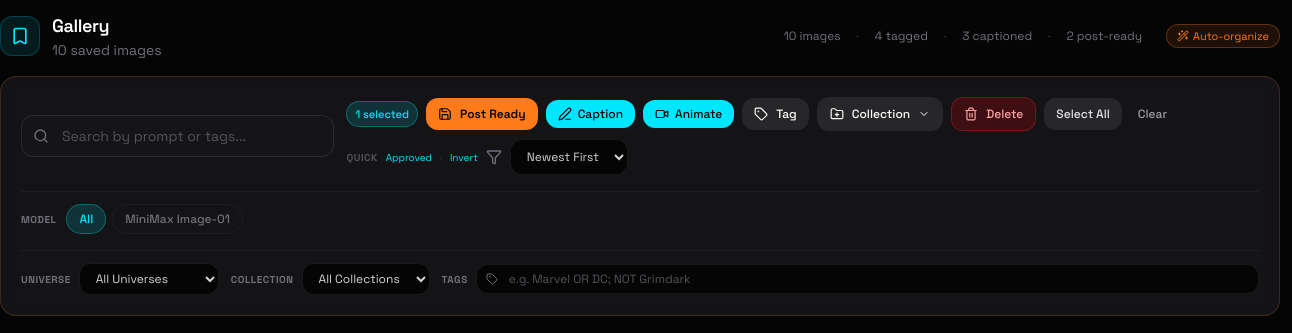
Test: GalleryFilterBar › FEAT-3 — Batch add to collection dropdown › shows only "New collection…" when there are no existing collections
Step 1. Click the button "Collection" → {"x": 880, "y": 114}, box [817, 97, 943, 131]
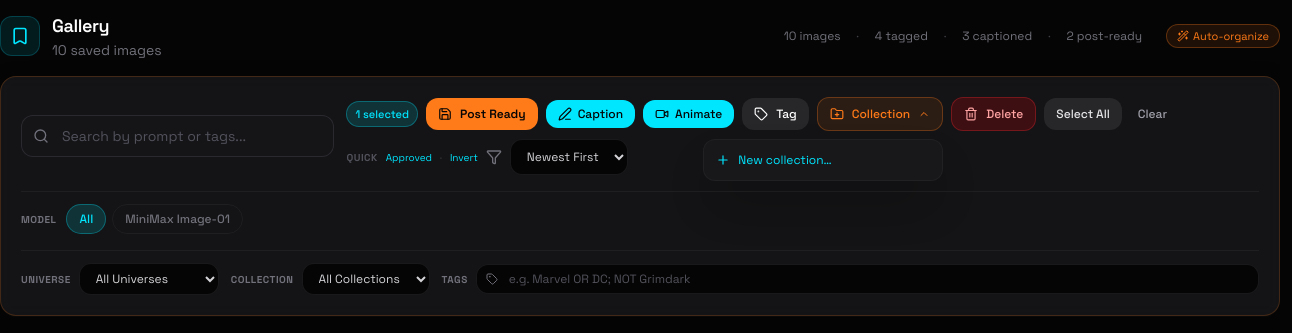
Now the menu item "New collection…" is shown, box [704, 144, 942, 176]
